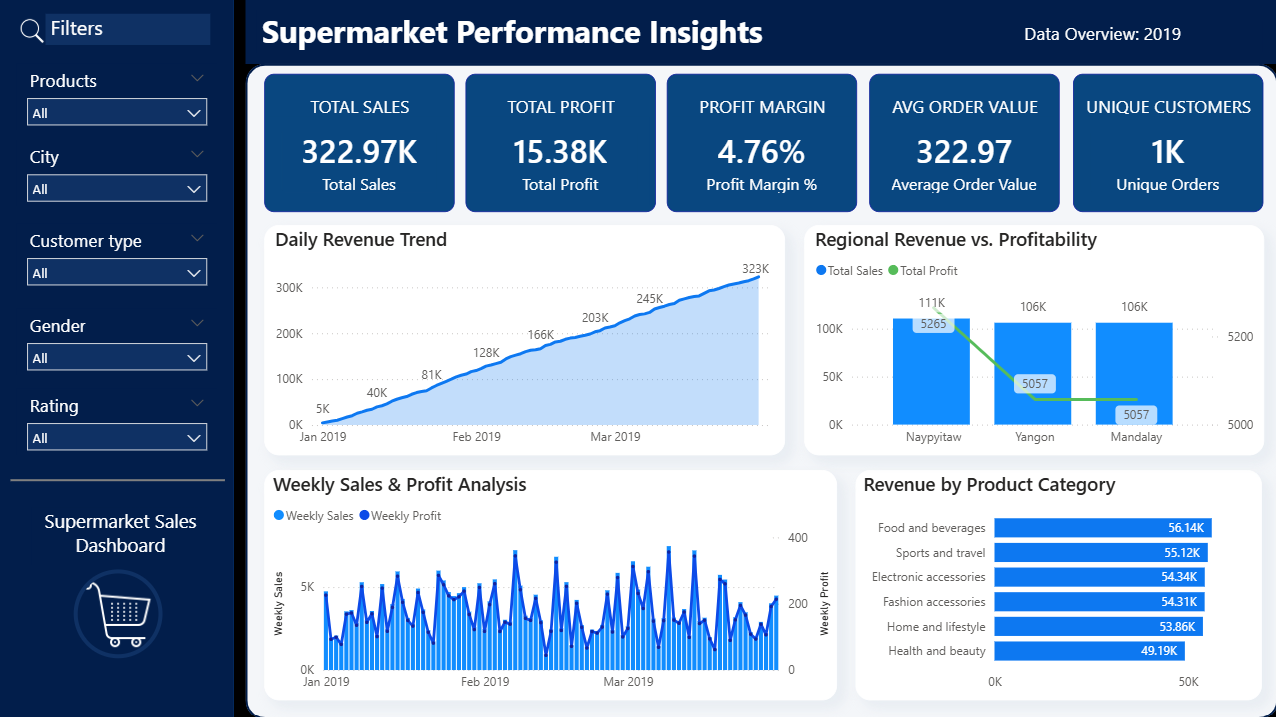

The dashboard page shown, as its layout file describes it:
{"tool":"powerbi","page":{"name":"Page 1","canvas":[1280,720],"ordinal":0},"visuals":[{"type":"shape","box":[0,0,235.7,720],"z":0},{"type":"textbox","title":"Filters","box":[47.1,14,165,31],"z":1000},{"type":"slicer","fields":{"Values":["supermarket_sales - Sheet1.City"]},"box":[18.6,140,200,65.7],"z":2000},{"type":"slicer","fields":{"Values":["supermarket_sales - Sheet1.Customer type"]},"box":[18.6,224.3,200,65.7],"z":3000},{"type":"slicer","fields":{"Values":["supermarket_sales - Sheet1.Product line"]},"box":[18.6,64.3,200,65.7],"z":4000},{"type":"slicer","fields":{"Values":["supermarket_sales - Sheet1.Gender"]},"box":[18.6,308.6,200,65.7],"z":5000},{"type":"slicer","fields":{"Values":["supermarket_sales - Sheet1.Rating"]},"box":[18.6,388.6,200,65.7],"z":6000},{"type":"shape","box":[247.1,0,1032.9,64.3],"z":7000},{"type":"textbox","title":"Supermarket Performance Insights","box":[258.2,9.7,513.9,42.2],"z":8000},{"type":"textbox","title":"Data Overview: 2019","box":[1021.4,21.4,242.9,30],"z":9000},{"type":"shape","box":[247.3,63.9,1032.7,656.3],"z":10000},{"type":"cardVisual","title":"TOTAL SALES","fields":{"Data":["supermarket_sales - Sheet1.Total Sales"]},"box":[266.6,73.6,190,138],"z":11000},{"type":"cardVisual","title":"TOTAL PROFIT","fields":{"Data":["supermarket_sales - Sheet1.Total Profit"]},"box":[466.9,73.6,190,138],"z":12000},{"type":"cardVisual","title":"UNIQUE CUSTOMERS","fields":{"Data":["supermarket_sales - Sheet1.Customer Types"]},"box":[1074.9,73.6,190,138],"z":13000},{"type":"cardVisual","title":"AVG ORDER VALUE","fields":{"Data":["supermarket_sales - Sheet1.Average Order Value"]},"box":[871.1,73.6,190,138],"z":14000},{"type":"cardVisual","title":"PROFIT MARGIN","fields":{"Data":["supermarket_sales - Sheet1.Profit Margin %"]},"box":[668.4,73.6,190,138],"z":15000},{"type":"clusteredBarChart","title":"Revenue by Product Category","fields":{"Category":["supermarket_sales - Sheet1.Product line"],"Y":["supermarket_sales - Sheet1.Total Sales"]},"box":[857.8,470.5,406.6,230.4],"z":16000},{"type":"lineClusteredColumnComboChart","title":"Regional Revenue vs. Profitability","fields":{"Category":["supermarket_sales - Sheet1.City"],"Y":["supermarket_sales - Sheet1.Total Sales"],"Y2":["supermarket_sales - Sheet1.Total Profit"]},"box":[805.9,224.4,460,230],"z":17000},{"type":"areaChart","title":"Daily Revenue Trend","fields":{"Y":["supermarket_sales - Sheet1.Total Sales Over Times"],"Category":["Calendar.Date"]},"box":[266.6,224.4,521.2,230.4],"z":18000},{"type":"lineStackedColumnComboChart","title":"Weekly Sales & Profit Analysis","fields":{"Y":["supermarket_sales - Sheet1.Weekly Sales"],"Y2":["supermarket_sales - Sheet1.Weekly Profit"],"Category":["Calendar.Date"]},"box":[266.6,470.5,573.1,230.4],"z":19000},{"type":"image","box":[10,17,48.3,27],"z":20000},{"type":"shape","box":[12.1,330.6,214.7,300.4],"z":21000},{"type":"image","box":[72.4,565.8,95.3,95.3],"z":22000},{"type":"textbox","title":"Supermarket Sales Dashboard","box":[33.8,507.9,177.3,57.9],"z":23000}]}

Visuals, with their boxes in screenshot pixels (x1, y1, x2, y2), scaled from the page's 1280x720 canvas onto the 1276x717 screenshot:
shape: [left=0, top=0, right=235, bottom=716]
"Filters" textbox: [left=47, top=14, right=211, bottom=45]
slicer - supermarket_sales - Sheet1.City: [left=19, top=139, right=218, bottom=205]
slicer - supermarket_sales - Sheet1.Customer type: [left=19, top=223, right=218, bottom=289]
slicer - supermarket_sales - Sheet1.Product line: [left=19, top=64, right=218, bottom=129]
slicer - supermarket_sales - Sheet1.Gender: [left=19, top=307, right=218, bottom=373]
slicer - supermarket_sales - Sheet1.Rating: [left=19, top=387, right=218, bottom=452]
shape: [left=246, top=0, right=1275, bottom=64]
"Supermarket Performance Insights" textbox: [left=257, top=10, right=770, bottom=52]
"Data Overview: 2019" textbox: [left=1018, top=21, right=1260, bottom=51]
shape: [left=247, top=64, right=1275, bottom=716]
"TOTAL SALES" cardVisual: [left=266, top=73, right=455, bottom=211]
"TOTAL PROFIT" cardVisual: [left=465, top=73, right=655, bottom=211]
"UNIQUE CUSTOMERS" cardVisual: [left=1072, top=73, right=1261, bottom=211]
"AVG ORDER VALUE" cardVisual: [left=868, top=73, right=1058, bottom=211]
"PROFIT MARGIN" cardVisual: [left=666, top=73, right=856, bottom=211]
"Revenue by Product Category" clusteredBarChart: [left=855, top=469, right=1260, bottom=698]
"Regional Revenue vs. Profitability" lineClusteredColumnComboChart: [left=803, top=223, right=1262, bottom=453]
"Daily Revenue Trend" areaChart: [left=266, top=223, right=785, bottom=453]
"Weekly Sales & Profit Analysis" lineStackedColumnComboChart: [left=266, top=469, right=837, bottom=698]
image: [left=10, top=17, right=58, bottom=44]
shape: [left=12, top=329, right=226, bottom=628]
image: [left=72, top=563, right=167, bottom=658]
"Supermarket Sales Dashboard" textbox: [left=34, top=506, right=210, bottom=563]
